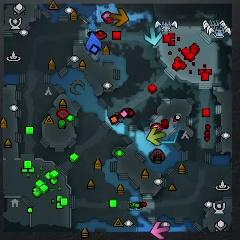p1: (87, 33, 101, 52)
x1: (151, 221, 169, 240)
x2: (147, 126, 166, 146)
x3: (145, 28, 162, 45)
x5: (110, 9, 129, 28)
